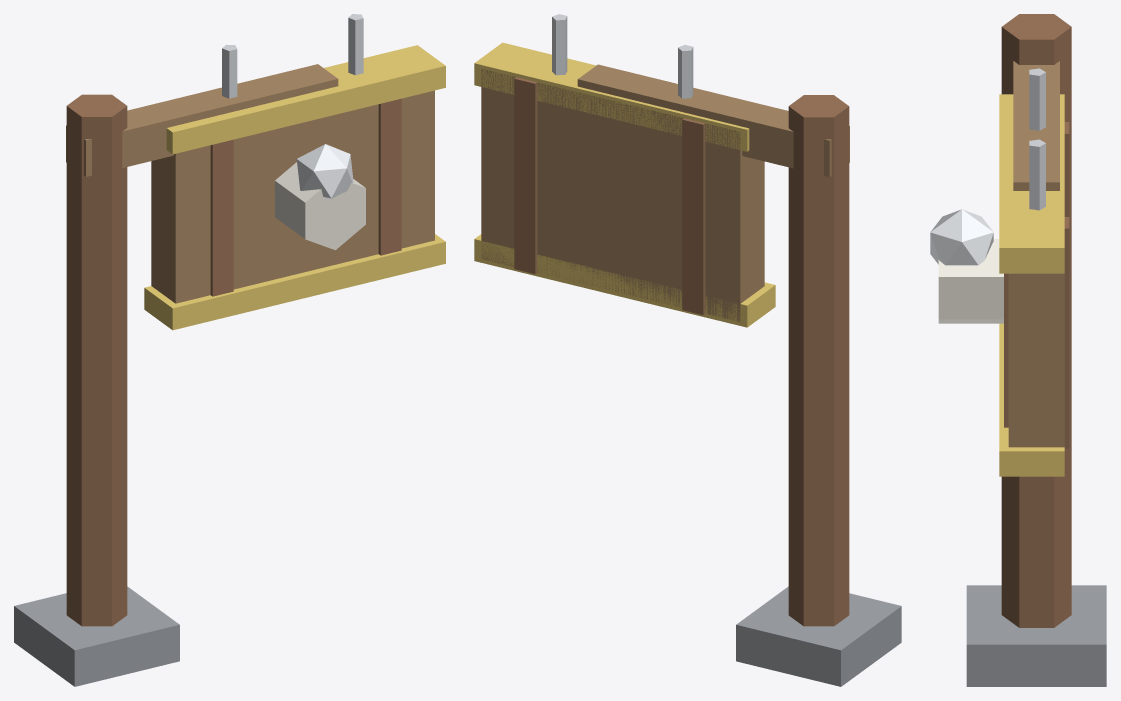
The model's file is shop_sign.glb.
3 renders of one model, left to right at view 1: azimuth 30°, elevation 25°; view 2: azimuth 150°, elevation 25°; view 3: azimuth 270°, elevation 25°, orthographic. The views are drawn at different scales.
Visible parts, largest first — view 1: post, board, foot, trim_0, trim_1, arm, mug, edge_0, edge_1, foam, chain_1, chain_0; view 2: board, post, foot, trim_0, arm, trim_1, edge_0, edge_1, chain_1, chain_0; view 3: post, foot, board, trim_0, mug, arm, foam, trim_1, edge_1, chain_1, chain_0, edge_0.
Part boxes in pixels (x1,y1,x2,y2): post: (66, 94, 127, 626); board: (151, 90, 434, 303); foot: (14, 586, 179, 686); trim_0: (166, 45, 445, 154); trim_1: (144, 234, 445, 330); arm: (66, 64, 338, 176); mug: (275, 162, 365, 250); edge_0: (210, 139, 233, 296); edge_1: (378, 98, 401, 255); foam: (296, 144, 353, 199); chain_1: (348, 14, 363, 75); chain_0: (222, 44, 237, 98); board: (481, 69, 764, 321); post: (788, 95, 849, 626); foot: (736, 586, 901, 686); trim_0: (474, 42, 749, 151); arm: (577, 64, 849, 177); trim_1: (474, 234, 775, 327); edge_0: (682, 118, 705, 314); edge_1: (514, 77, 537, 273); chain_1: (552, 14, 567, 75); chain_0: (678, 45, 693, 98); post: (1001, 14, 1071, 627); foot: (966, 585, 1106, 686); board: (1008, 273, 1064, 447); trim_0: (999, 94, 1064, 273); mug: (938, 239, 1003, 323); arm: (1013, 61, 1059, 190); foam: (930, 209, 993, 265); trim_1: (999, 323, 1064, 476); edge_1: (1004, 217, 1069, 448); chain_1: (1029, 139, 1045, 210); chain_0: (1029, 68, 1045, 130); edge_0: (1064, 122, 1069, 216).
Size of the model in its own units: 1.1 by 1.56 by 0.3781.
